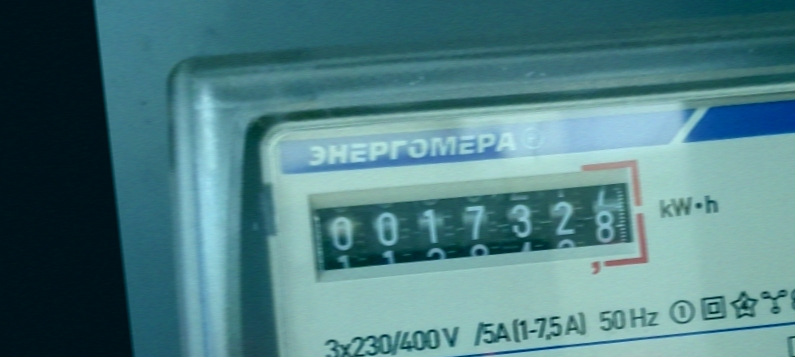0: (327, 212, 356, 254), (374, 208, 401, 249)
1: (419, 205, 441, 246)
2: (550, 198, 576, 237)
3: (509, 201, 534, 239)
7: (463, 202, 489, 242)
8: (593, 207, 615, 244)
screen: (296, 154, 660, 308)
